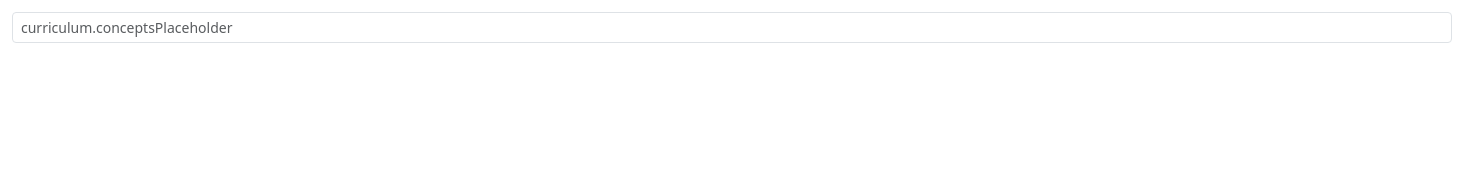
ConceptPicker › narrows the list as the query is typed
Type "for" into the dropdown. click: coordinates (732, 28)
box: [12, 12, 1452, 43]
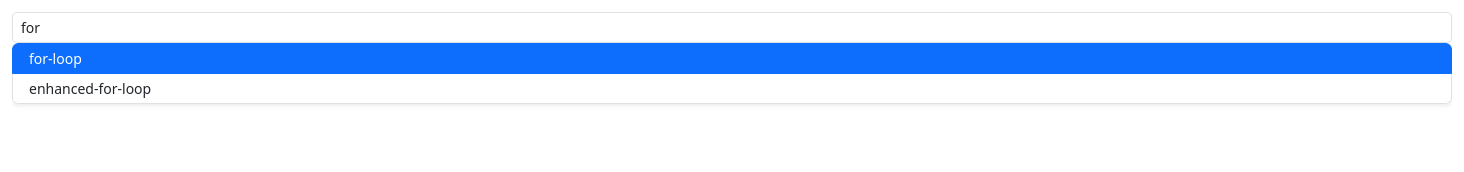
Result: the options read "for-loop", "enhanced-for-loop", in this order at [12, 43, 1452, 74]; [12, 74, 1452, 104]
